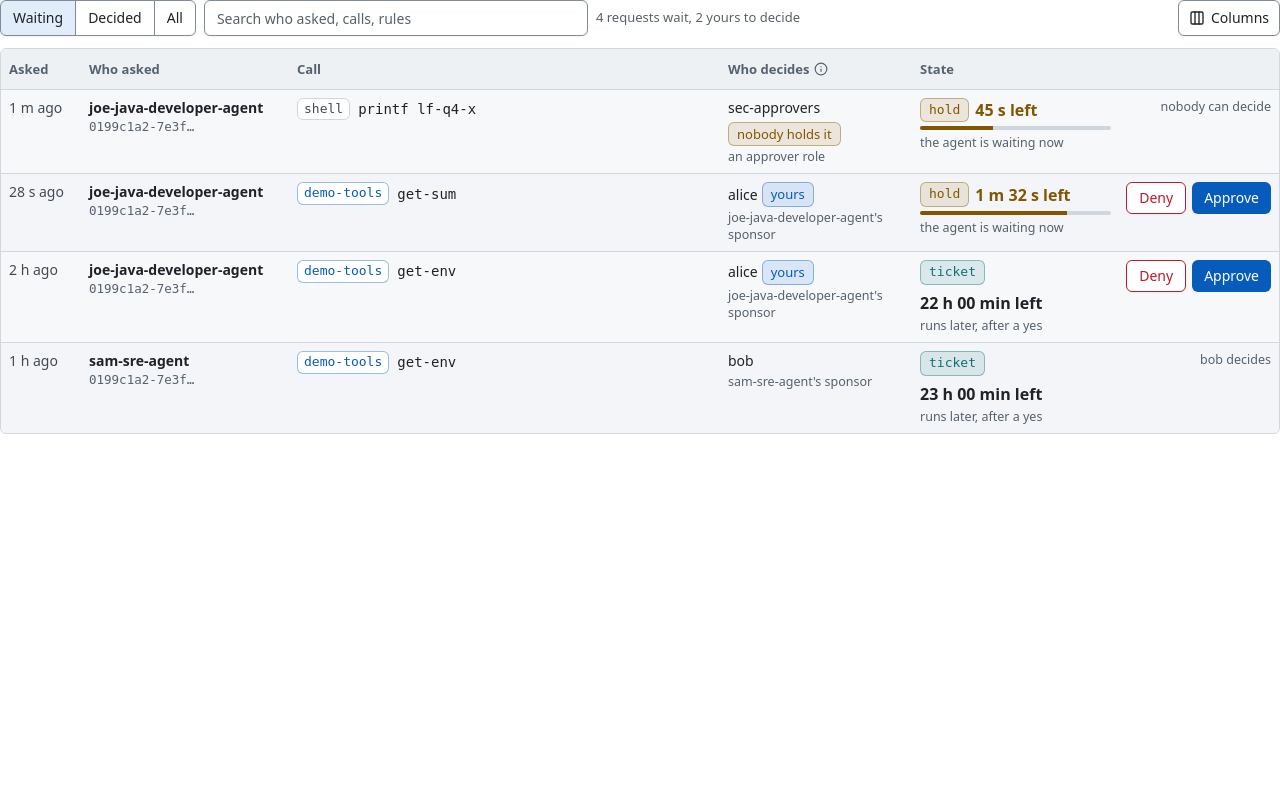
Scenario: the requests queue › asks before it decides, and sends nothing while the question is open or cancelled
The width and height of the screenshot is (1280, 800).
Expected: the button with aria-label "Open get-sum for joe-java-developer-agent" is shown, x1=1 y1=174 x2=1279 y2=252
Click the 1st button "Approve". click: (1232, 198)
box: x1=1192 y1=182 x2=1271 y2=214
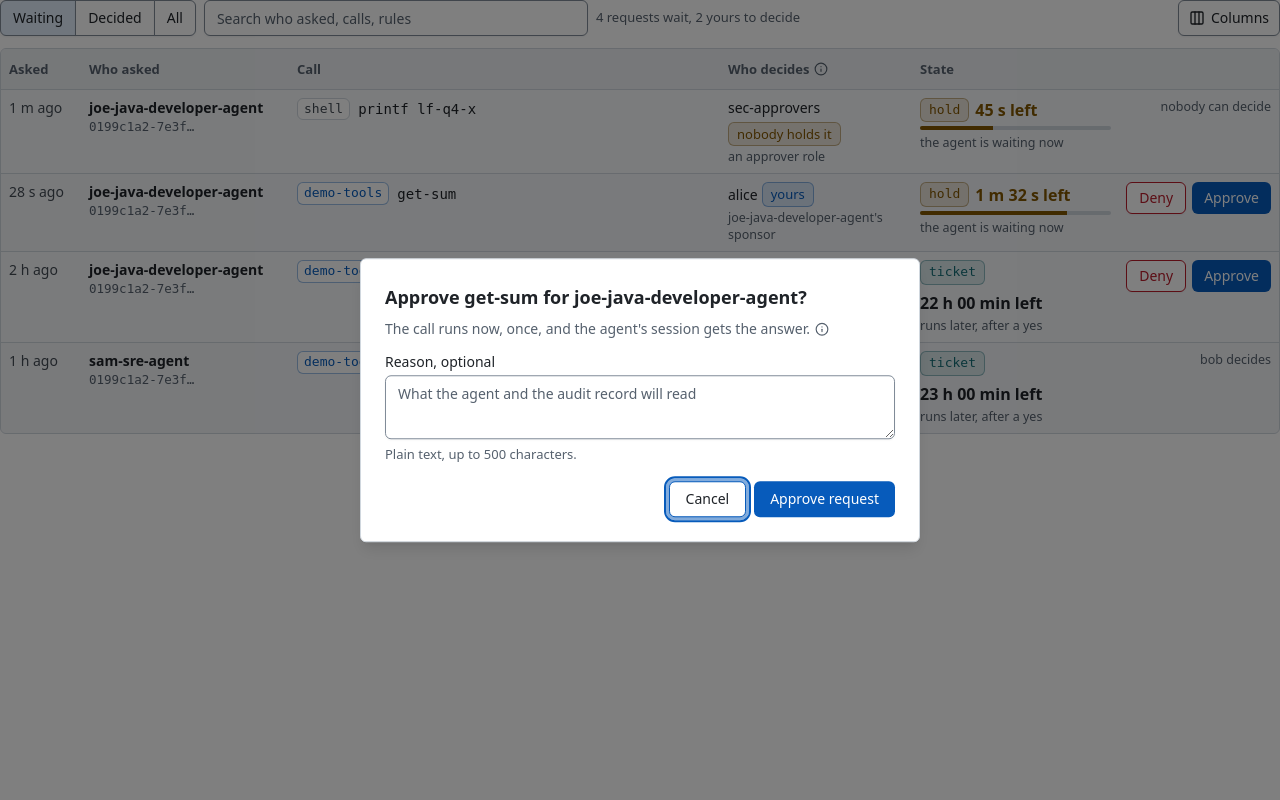
Click the button "Cancel". click: (707, 499)
box: x1=669 y1=481 x2=746 y2=517
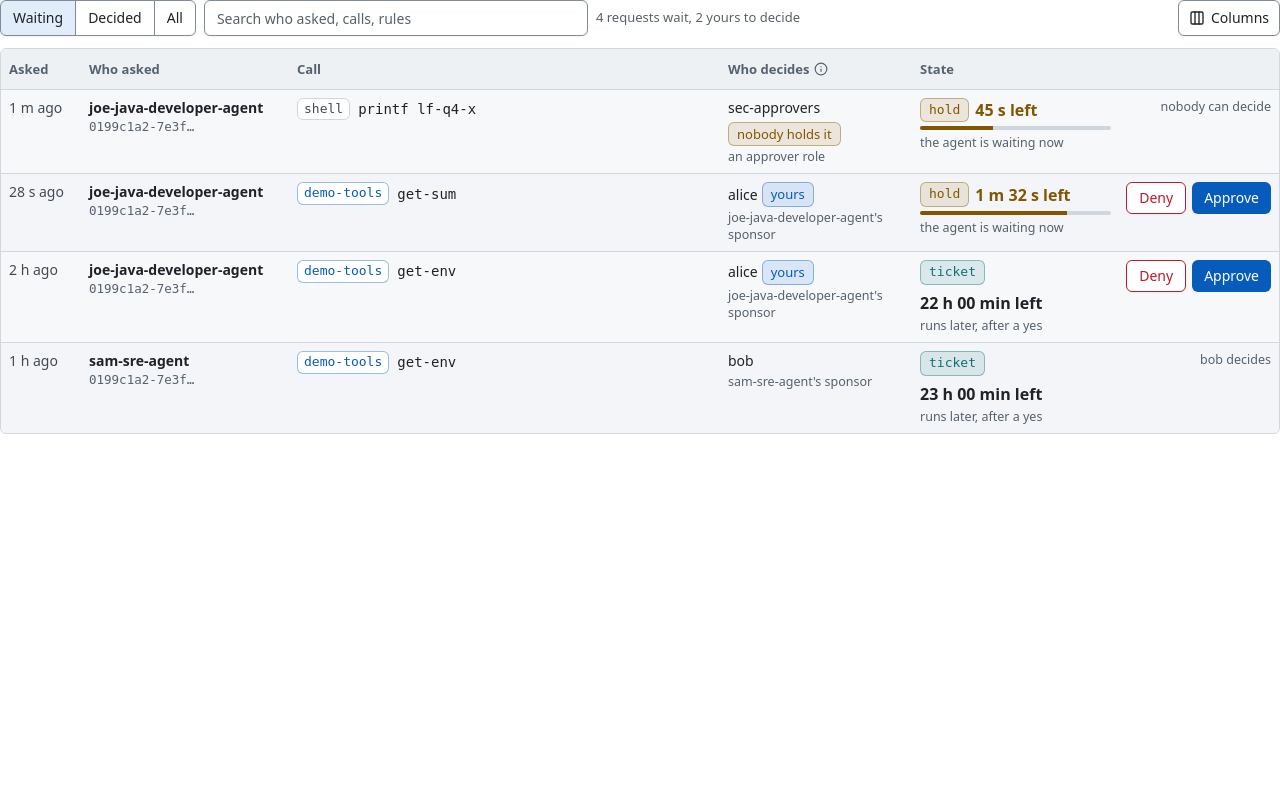
Result: the dialog is gone
